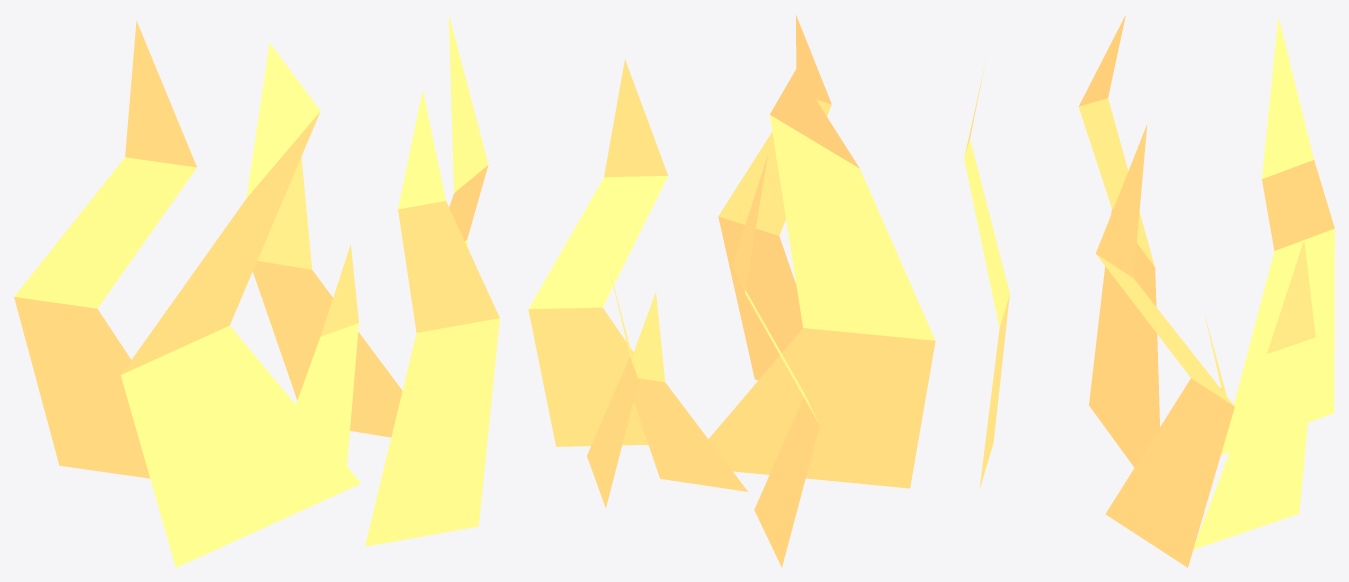
Rendered from Flames.glb.
3 renders of one model, left to right at view 1: azimuth 30°, elevation 25°; view 2: azimuth 150°, elevation 25°; view 3: azimuth 270°, elevation 25°, orthographic. The views are drawn at different scales.
Parts seen in each view (by area): view 1: Fire 3, Fire 5, Fire 1, Fire 6, Fire 4, Fire 2; view 2: Fire 3, Fire 2, Fire 1, Fire 4, Fire 5, Fire 6; view 3: Fire 2, Fire 5, Fire 6, Fire 3, Fire 1.
Part boxes in pixels (left/top/right/bottom): Fire 3: left=120, top=43, right=360, bottom=567; Fire 5: left=14, top=21, right=196, bottom=478; Fire 1: left=365, top=90, right=499, bottom=546; Fire 6: left=253, top=156, right=402, bottom=437; Fire 4: left=296, top=244, right=358, bottom=465; Fire 2: left=448, top=14, right=488, bottom=247; Fire 3: left=708, top=69, right=935, bottom=488; Fire 2: left=528, top=59, right=667, bottom=446; Fire 1: left=718, top=14, right=831, bottom=380; Fire 4: left=632, top=292, right=747, bottom=491; Fire 5: left=732, top=155, right=819, bottom=567; Fire 6: left=587, top=266, right=638, bottom=507; Fire 2: left=1096, top=124, right=1234, bottom=567; Fire 5: left=1221, top=17, right=1334, bottom=454; Fire 6: left=1193, top=240, right=1315, bottom=549; Fire 3: left=1078, top=15, right=1159, bottom=467; Fire 1: left=964, top=66, right=1009, bottom=488.
Bounding box in the file's own units: 0.6165 × 0.6876 × 0.5224.
